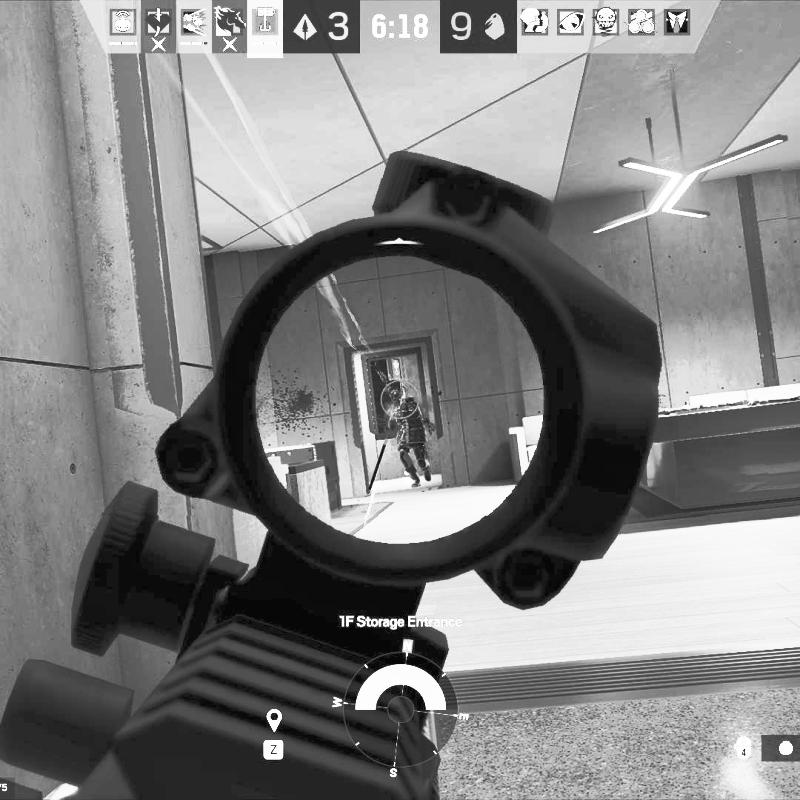Character: (386, 387, 433, 489)
Head: (390, 388, 403, 406)
